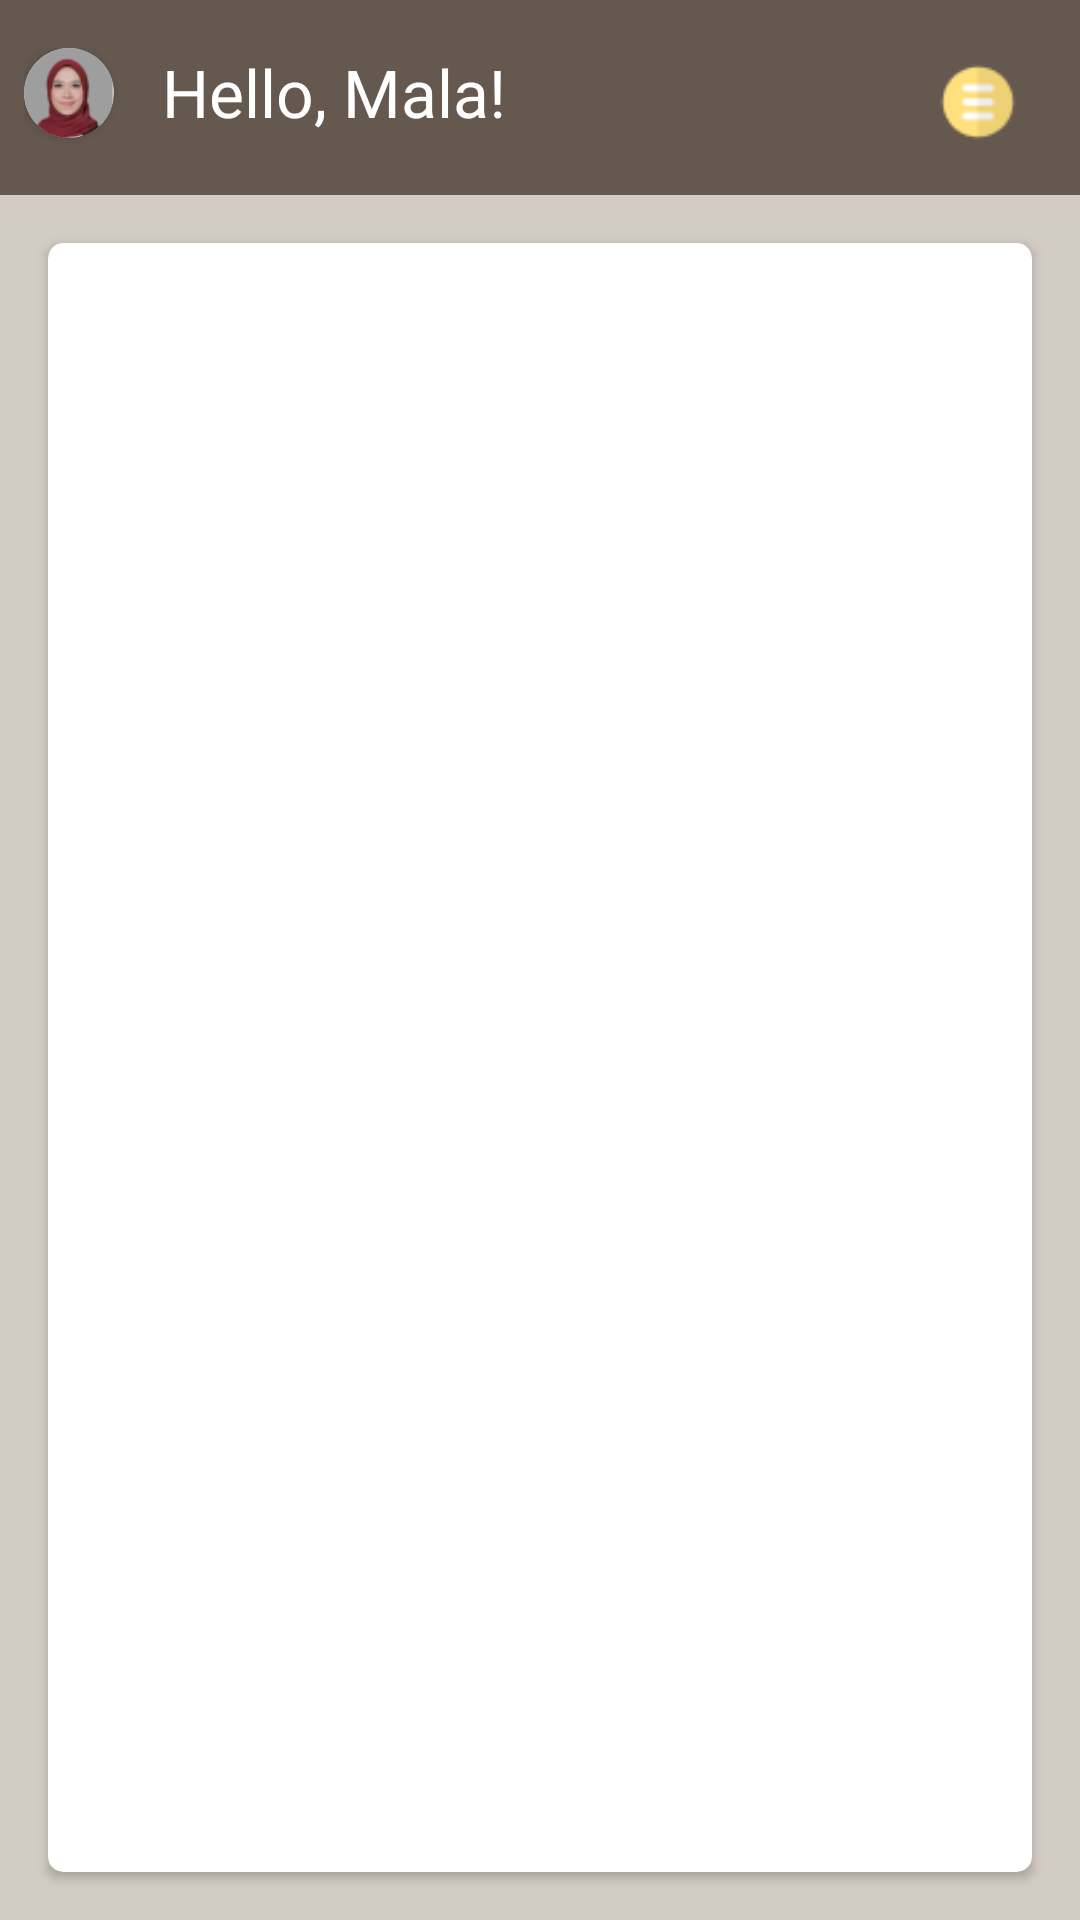

Locate icon controls on the screen. Image size 1080x1920, boxes as (x1, y1, x2, y2).
im user: (24, 48, 114, 138)
menu: (941, 66, 1014, 139)
